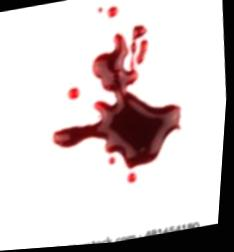Fire: (54, 26, 182, 170), (137, 41, 148, 65), (107, 7, 119, 19), (69, 88, 80, 100), (129, 174, 139, 184)
